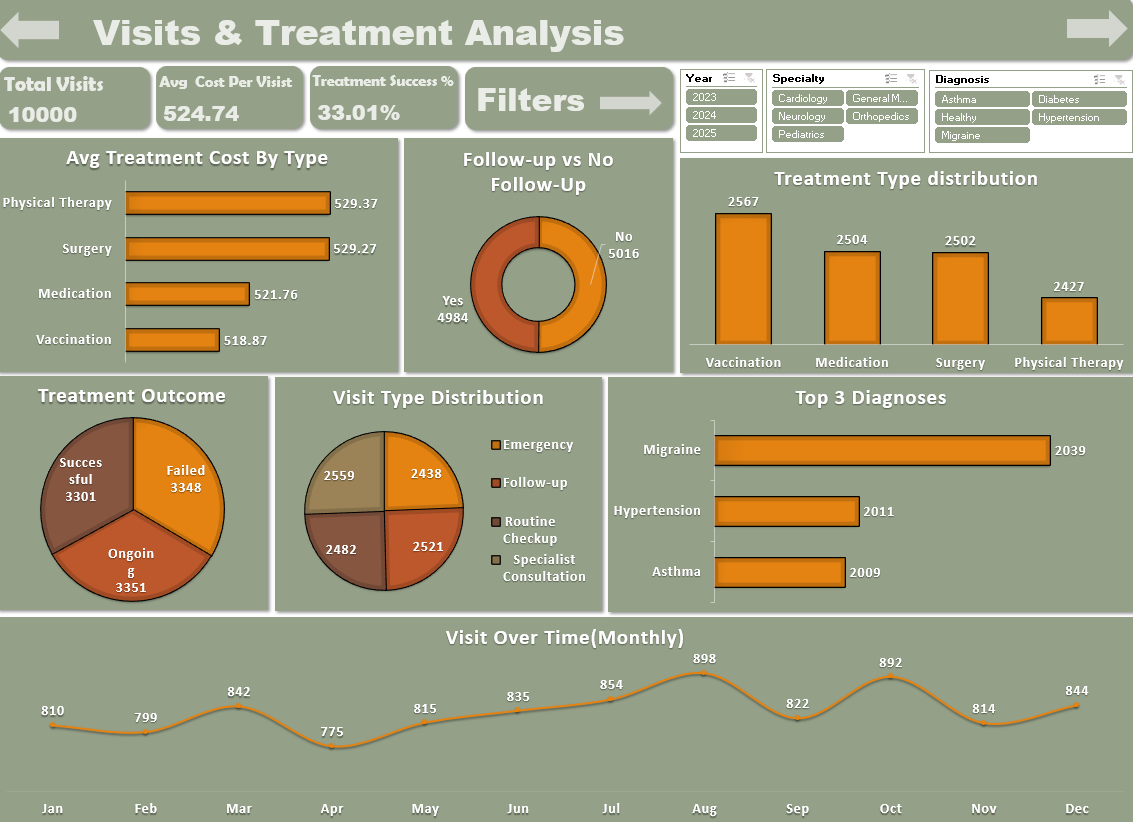

Layout of this report page (visuals, bound fields, positions):
{"tool":"powerbi","page":{"name":"Visit & Treatment Analysis","canvas":[1280,720],"ordinal":1},"visuals":[{"type":"shape","box":[0,0,1279.7,52.7],"z":0},{"type":"cardVisual","fields":{"Data":["Visit.total Visits","Treatments.Total Cost Generated","Treatments.Avg Treatment Cost per Visits","Treatments.Treatment Success %"]},"box":[218.6,51.4,1061.4,92.9],"z":1000},{"type":"pieChart","title":"Treatment Outcome","fields":{"Category":["Treatments.Outcome"],"Y":["CountNonNull(Treatments.Visit ID)"]},"box":[0,144.3,351.4,315.7],"z":2000},{"type":"slicer","fields":{"Values":["Visit.Visit Date.Variation.Date Hierarchy.Year"]},"box":[0,52.9,218.6,91.4],"z":3000},{"type":"treemap","title":"Treatment Type Distribution","fields":{"Group":["Treatments.Treatment Type"],"Values":["CountNonNull(Treatments.Visit ID)"]},"box":[807.1,144.3,472.9,315.7],"z":4000},{"type":"clusteredColumnChart","fields":{"Category":["Visit.Visit Type"],"Y":["Visit.total Visits"]},"box":[351.4,144.3,455.7,315.7],"z":5000},{"type":"clusteredBarChart","fields":{"Category":["Visit.Diagnosis"],"Y":["Visit.total Visits"]},"box":[0,460,422.9,260],"z":6000},{"type":"lineChart","title":"Visit Over Time(Monthly)","fields":{"Y":["Visit.total Visits"],"Category":["Visit.Visit Date.Variation.Date Hierarchy.Month"]},"box":[422.9,460,857.1,260],"z":7000},{"type":"actionButton","box":[0,0,54.4,50.9],"z":8000},{"type":"actionButton","box":[1224.9,0,55.5,53.2],"z":9000}]}

Visuals, with their boxes on the page's 1280x720 design canvas (x1, y1, x2, y2). These are canvas units, not pixel positions in the 1133x822 screenshot, which may show the page scaled, cropped or inside an application window:
shape: x1=0, y1=0, x2=1280, y2=53
cardVisual - Visit.total Visits x Treatments.Total Cost Generated: x1=219, y1=51, x2=1280, y2=144
"Treatment Outcome" pieChart: x1=0, y1=144, x2=351, y2=460
slicer - Visit.Visit Date.Variation.Date Hierarchy.Year: x1=0, y1=53, x2=219, y2=144
"Treatment Type Distribution" treemap: x1=807, y1=144, x2=1280, y2=460
clusteredColumnChart - Visit.Visit Type x Visit.total Visits: x1=351, y1=144, x2=807, y2=460
clusteredBarChart - Visit.Diagnosis x Visit.total Visits: x1=0, y1=460, x2=423, y2=720
"Visit Over Time(Monthly)" lineChart: x1=423, y1=460, x2=1280, y2=720
actionButton: x1=0, y1=0, x2=54, y2=51
actionButton: x1=1225, y1=0, x2=1280, y2=53
